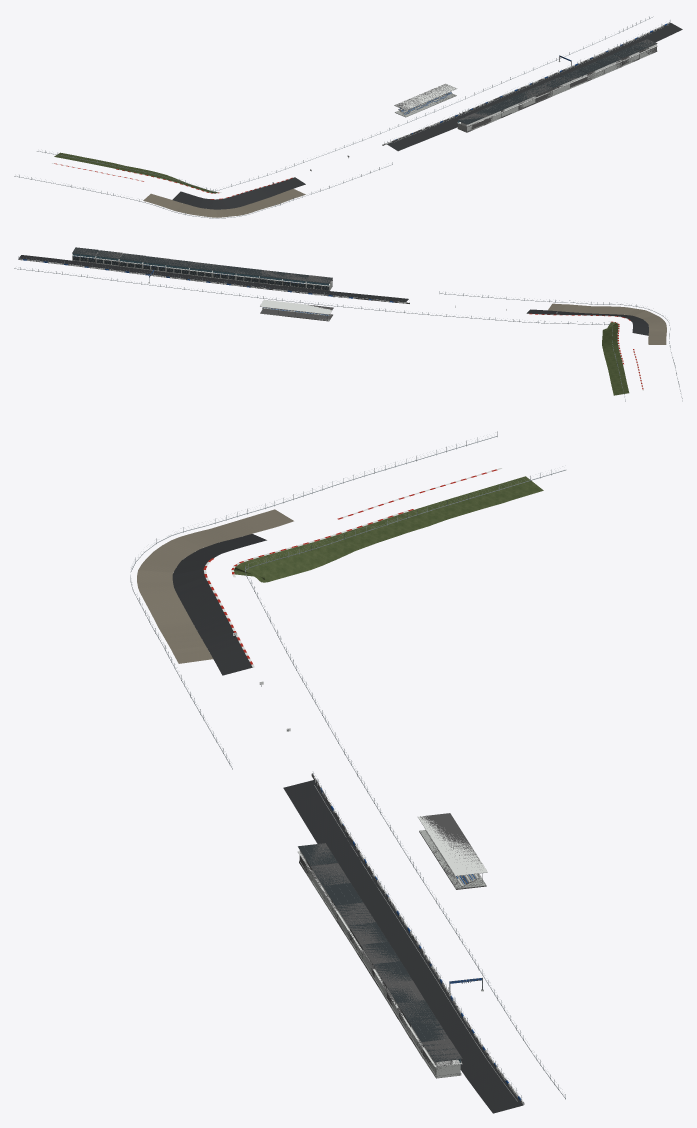
Rendered from red-bull-ring-slice.glb.
3 renders of one model, top to bottom at view 1: azimuth 30°, elevation 25°; view 2: azimuth 150°, elevation 25°; view 3: azimuth 270°, elevation 25°, orthographic. The views are drawn at different scales.
Parts seen in each view (by area): view 1: RBR_SLICE_ROOT_RBR_PitAsphalt_LOD0, SHADOW_CASTERS_LOD0, RBR_SLICE_ROOT_RBR_Ice_LOD0, RBR_SLICE_ROOT_RBR_Charcoal_LOD0, RBR_SLICE_ROOT_RBR_Gravel_LOD0, RBR_SLICE_ROOT_RBR_Concrete_LOD0, RBR_SLICE_ROOT_RBR_Steel_LOD0, RBR_SLICE_ROOT_RBR_Grass_LOD0; view 2: SHADOW_CASTERS_LOD0, RBR_SLICE_ROOT_RBR_Charcoal_LOD0, RBR_SLICE_ROOT_RBR_PitAsphalt_LOD0, RBR_SLICE_ROOT_RBR_Ice_LOD0, RBR_SLICE_ROOT_RBR_Gravel_LOD0, RBR_SLICE_ROOT_RBR_Steel_LOD0, RBR_SLICE_ROOT_RBR_Grass_LOD0, RBR_SLICE_ROOT_RBR_Glass_LOD0, RBR_SLICE_ROOT_RBR_Concrete_LOD0; view 3: RBR_SLICE_ROOT_RBR_PitAsphalt_LOD0, SHADOW_CASTERS_LOD0, RBR_SLICE_ROOT_RBR_Grass_LOD0, RBR_SLICE_ROOT_RBR_Gravel_LOD0, RBR_SLICE_ROOT_RBR_Charcoal_LOD0, RBR_SLICE_ROOT_RBR_Ice_LOD0, RBR_SLICE_ROOT_RBR_Steel_LOD0, RBR_SLICE_ROOT_RBR_Concrete_LOD0.
Boxes of the visible parts, box(x1,y1,x2,y2) form: RBR_SLICE_ROOT_RBR_PitAsphalt_LOD0: box(172, 23, 682, 209); SHADOW_CASTERS_LOD0: box(382, 22, 670, 145); RBR_SLICE_ROOT_RBR_Ice_LOD0: box(52, 22, 669, 199); RBR_SLICE_ROOT_RBR_Charcoal_LOD0: box(348, 39, 657, 157); RBR_SLICE_ROOT_RBR_Gravel_LOD0: box(143, 189, 305, 217); RBR_SLICE_ROOT_RBR_Concrete_LOD0: box(395, 47, 655, 132); RBR_SLICE_ROOT_RBR_Steel_LOD0: box(14, 16, 670, 218); RBR_SLICE_ROOT_RBR_Grass_LOD0: box(54, 152, 218, 193); SHADOW_CASTERS_LOD0: box(18, 247, 409, 321); RBR_SLICE_ROOT_RBR_Charcoal_LOD0: box(72, 247, 455, 307); RBR_SLICE_ROOT_RBR_PitAsphalt_LOD0: box(18, 255, 648, 335); RBR_SLICE_ROOT_RBR_Ice_LOD0: box(19, 252, 643, 390); RBR_SLICE_ROOT_RBR_Gravel_LOD0: box(548, 303, 666, 344); RBR_SLICE_ROOT_RBR_Steel_LOD0: box(14, 254, 682, 401); RBR_SLICE_ROOT_RBR_Grass_LOD0: box(602, 322, 629, 395); RBR_SLICE_ROOT_RBR_Glass_LOD0: box(72, 253, 328, 285); RBR_SLICE_ROOT_RBR_Concrete_LOD0: box(72, 257, 332, 320); RBR_SLICE_ROOT_RBR_PitAsphalt_LOD0: box(172, 534, 523, 1113); SHADOW_CASTERS_LOD0: box(298, 773, 524, 1104); RBR_SLICE_ROOT_RBR_Grass_LOD0: box(234, 476, 543, 582); RBR_SLICE_ROOT_RBR_Gravel_LOD0: box(137, 509, 293, 663); RBR_SLICE_ROOT_RBR_Charcoal_LOD0: box(234, 634, 470, 1062); RBR_SLICE_ROOT_RBR_Ice_LOD0: box(204, 468, 523, 1104); RBR_SLICE_ROOT_RBR_Steel_LOD0: box(130, 431, 565, 1099); RBR_SLICE_ROOT_RBR_Concrete_LOD0: box(299, 829, 486, 1078).
Size of the model in its own units: 727 by 24.64 by 207.
Materials: 11 (3 with a texture image).
